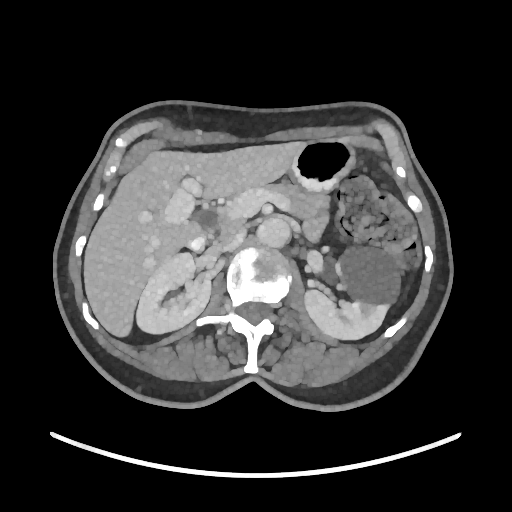Lesion: (338, 240, 403, 311)
